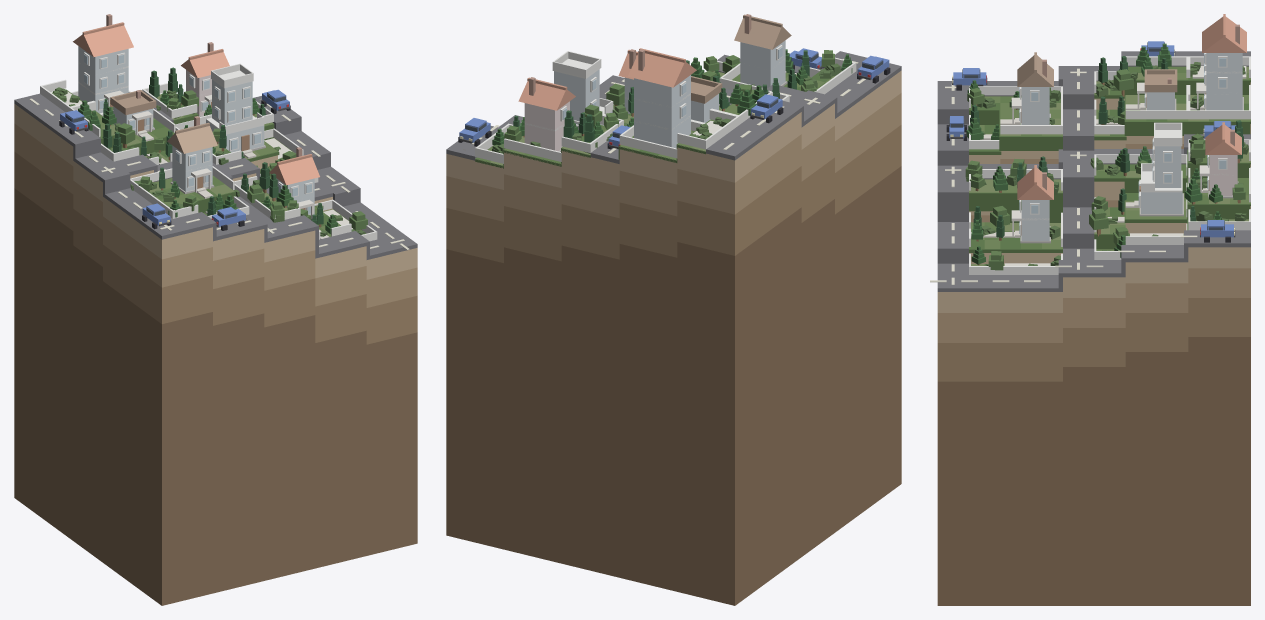
Rendered from block_4_engineered_40.glb.
3 views of the same model, side by side, from view 1: azimuth 30°, elevation 25°; view 2: azimuth 150°, elevation 25°; view 3: azimuth 270°, elevation 25° (orthographic). The views are drawn at different scales.
Parts seen in each view (by area): view 1: Patch_UpperLeft_b03_ES, Bungalows_UpperLeft_b03_ES, Roads_UpperLeft_b03_ES, LawnSkirt_UpperLeft_b03_ES, RoadMarks_UpperLeft_b03_ES, ULCar_003_ES; view 2: Patch_UpperLeft_b03_ES, Bungalows_UpperLeft_b03_ES, Roads_UpperLeft_b03_ES, ULCar_014_ES, ULCar_010_ES, ULCar_015_ES; view 3: Patch_UpperLeft_b03_ES, Bungalows_UpperLeft_b03_ES, Roads_UpperLeft_b03_ES, LawnSkirt_UpperLeft_b03_ES, RoadMarks_UpperLeft_b03_ES, ULCar_010_ES, ULCar_015_ES, ULCar_003_ES.
Part boxes in pixels (<box>): Patch_UpperLeft_b03_ES: <box>14,104,417,605</box>; Bungalows_UpperLeft_b03_ES: <box>40,14,377,241</box>; Roads_UpperLeft_b03_ES: <box>14,93,417,259</box>; LawnSkirt_UpperLeft_b03_ES: <box>67,90,340,225</box>; RoadMarks_UpperLeft_b03_ES: <box>29,98,409,249</box>; ULCar_003_ES: <box>211,207,246,230</box>; Patch_UpperLeft_b03_ES: <box>446,70,901,605</box>; Bungalows_UpperLeft_b03_ES: <box>475,14,856,168</box>; Roads_UpperLeft_b03_ES: <box>446,51,901,163</box>; ULCar_014_ES: <box>750,94,783,123</box>; ULCar_010_ES: <box>458,118,491,146</box>; ULCar_015_ES: <box>857,55,890,83</box>; Patch_UpperLeft_b03_ES: <box>937,82,1250,605</box>; Bungalows_UpperLeft_b03_ES: <box>969,14,1250,274</box>; Roads_UpperLeft_b03_ES: <box>937,51,1250,291</box>; LawnSkirt_UpperLeft_b03_ES: <box>969,79,1250,252</box>; RoadMarks_UpperLeft_b03_ES: <box>930,68,1197,284</box>; ULCar_010_ES: <box>1200,220,1235,242</box>; ULCar_015_ES: <box>952,68,987,90</box>; ULCar_003_ES: <box>946,116,966,140</box>.
Size of the model in its own units: 9.5 by 16.52 by 9.72.
